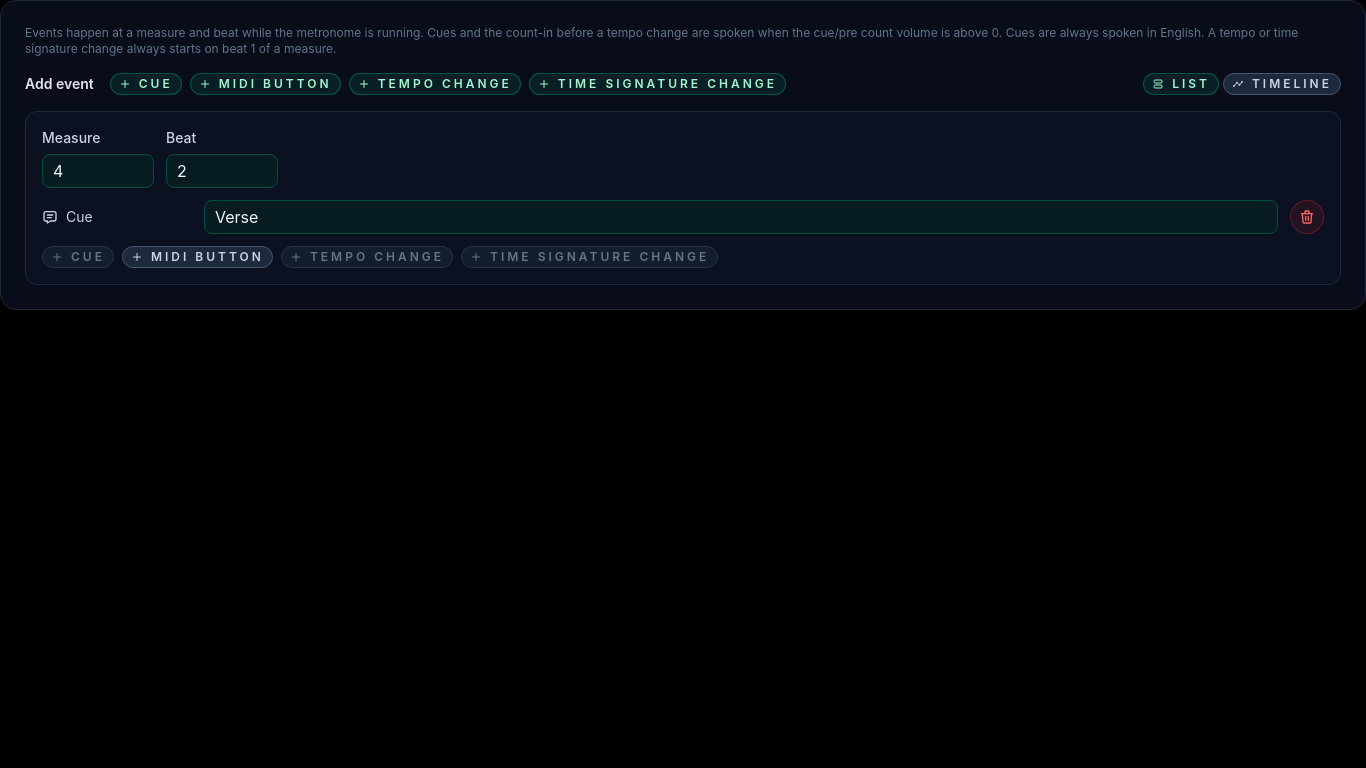
Test: EventsTab › timeline view › edits an event by selecting its chip
Click the button "Timeline".
click(1282, 84)  # box 1223,73 -> 1341,95
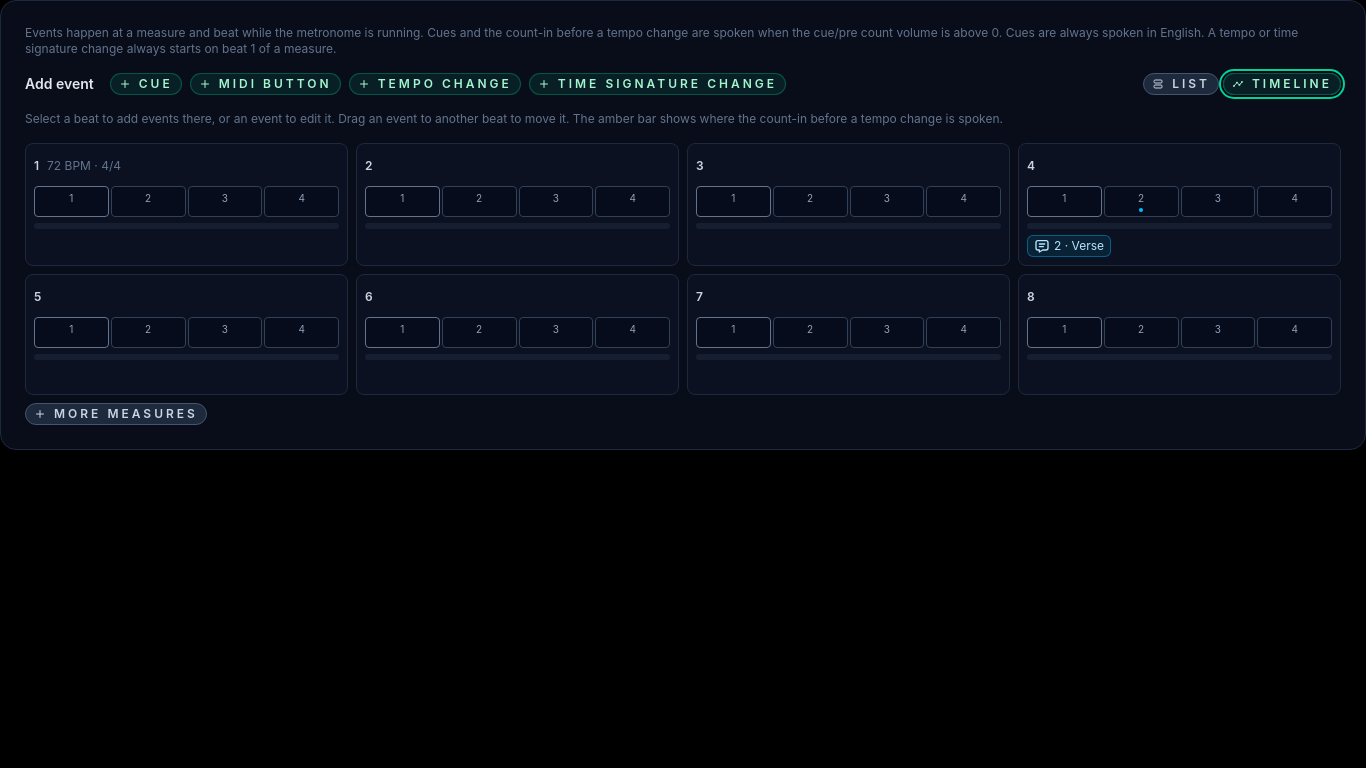
Click the button "2 · Verse".
click(1069, 246)  # box 1027,235 -> 1111,257
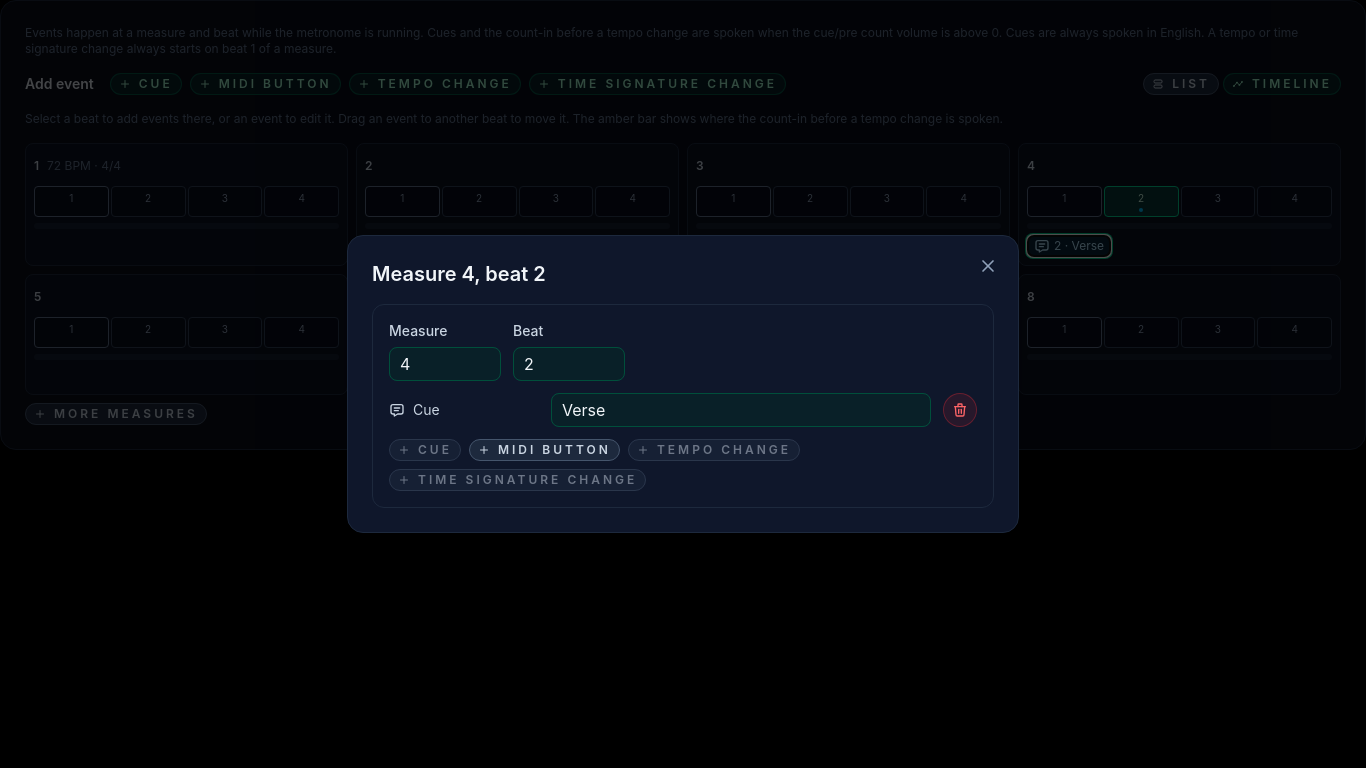
Clear the field named "Cue text" at (741, 410), box 551,393 -> 931,427
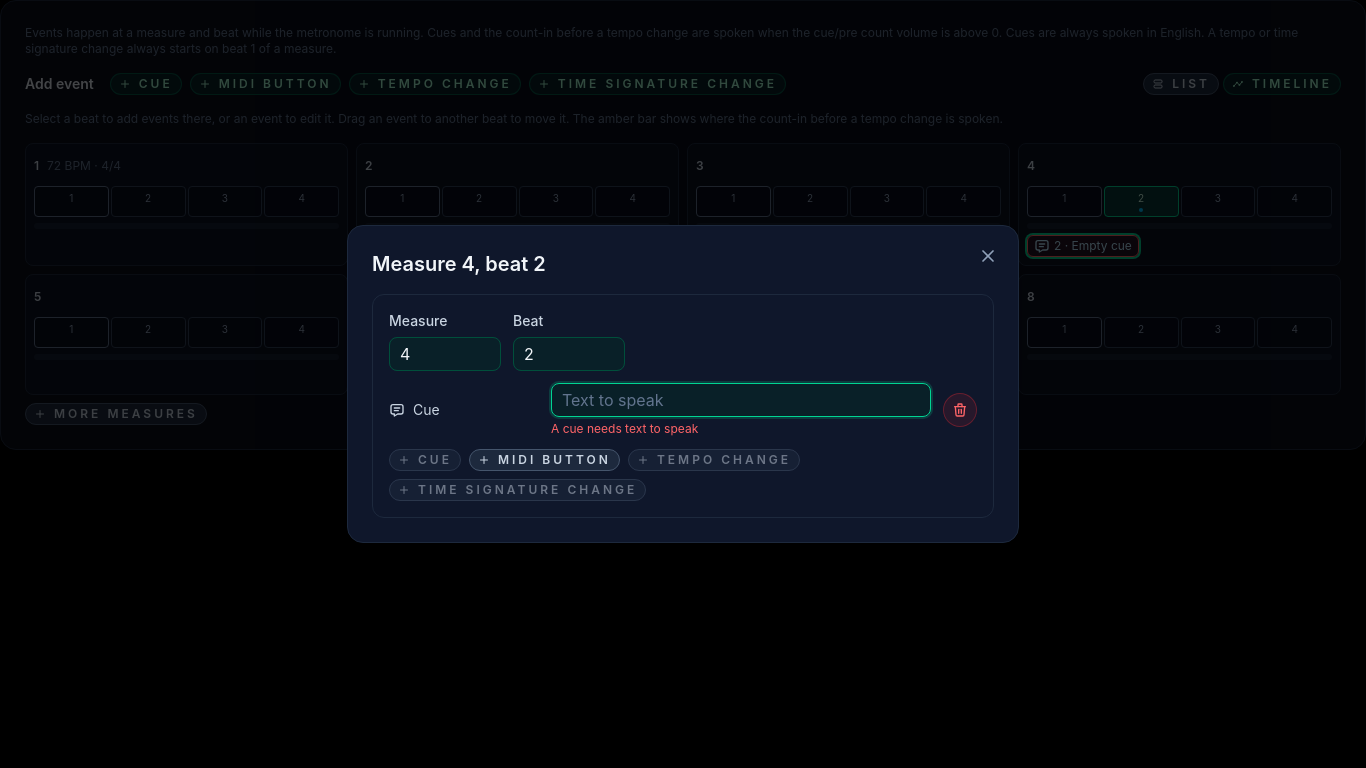
Type "Chorus" into the field named "Cue text".
click(741, 400); type("Chorus")  # box 551,383 -> 931,417
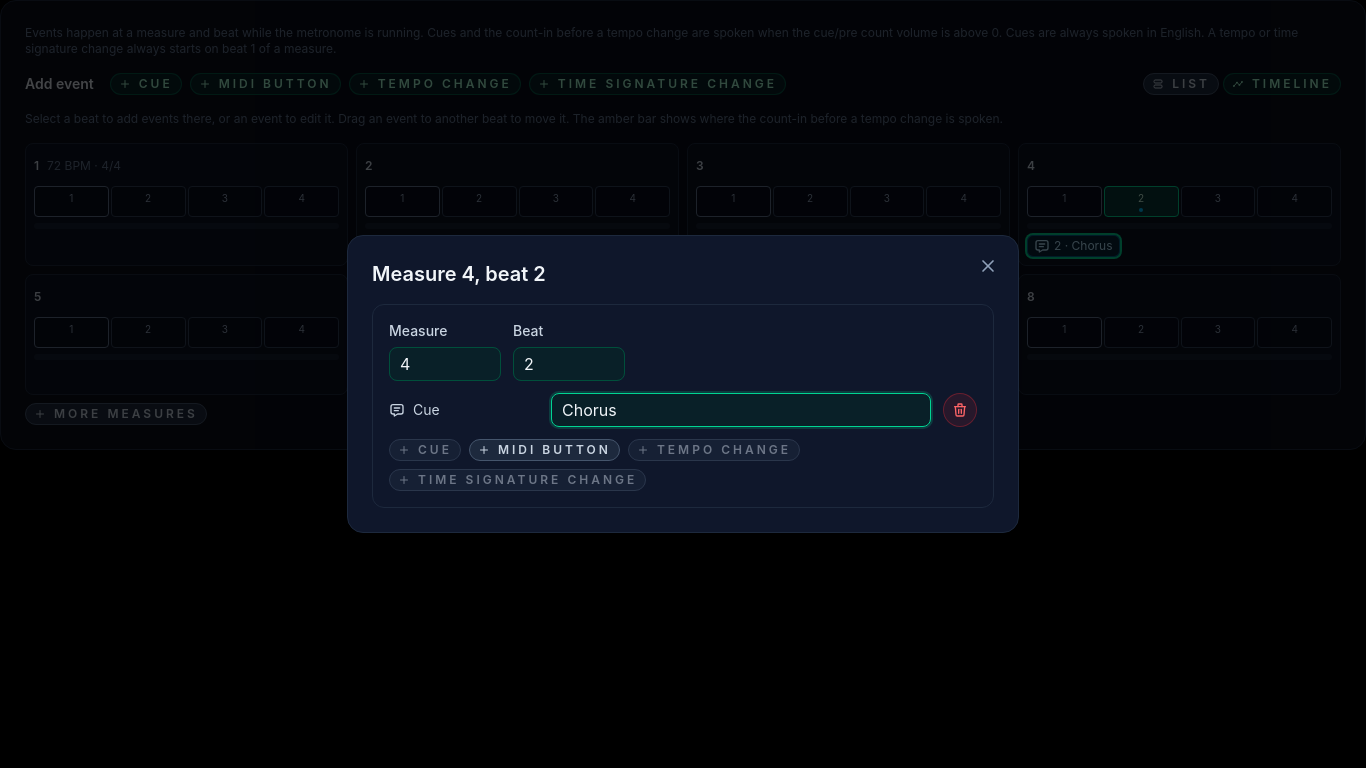
Click the button named "Delete cue".
click(960, 410)  # box 943,393 -> 977,427
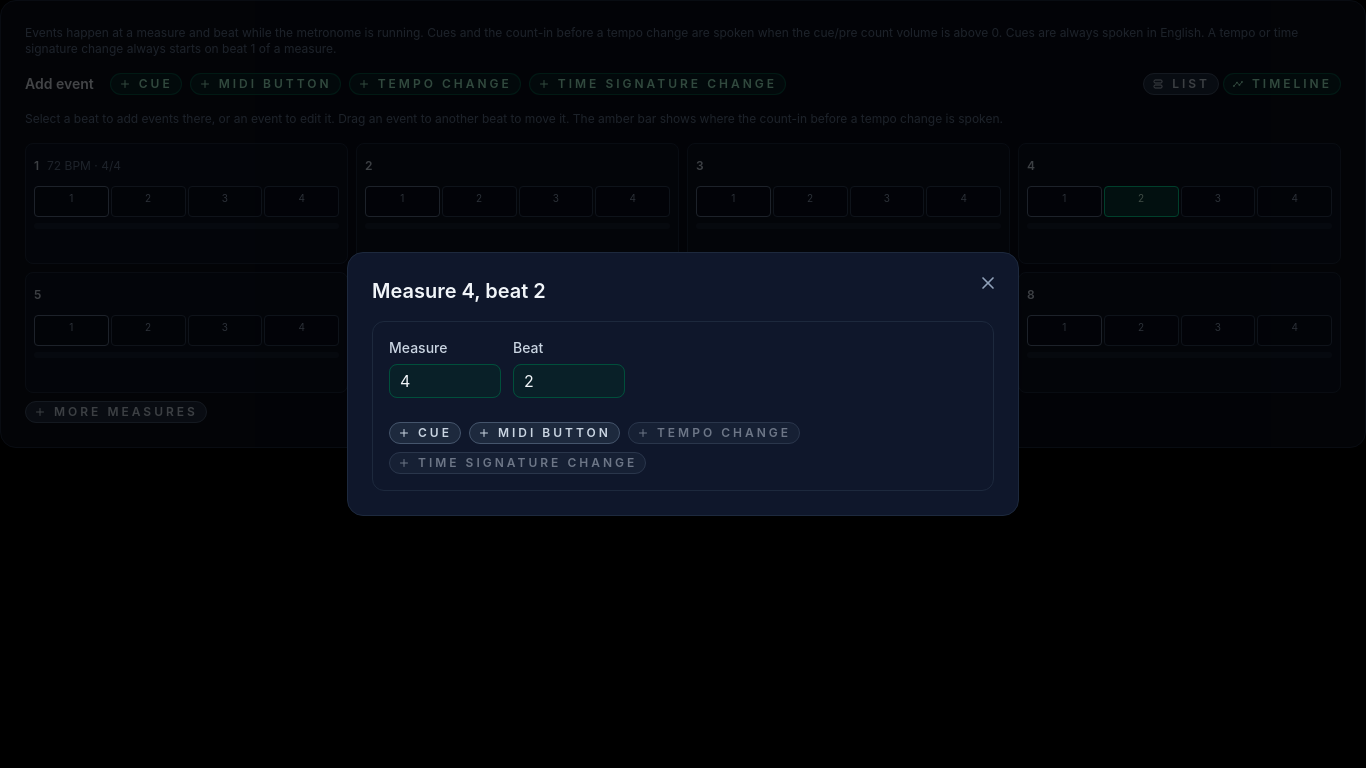
Now the button "2 · Chorus" is gone
